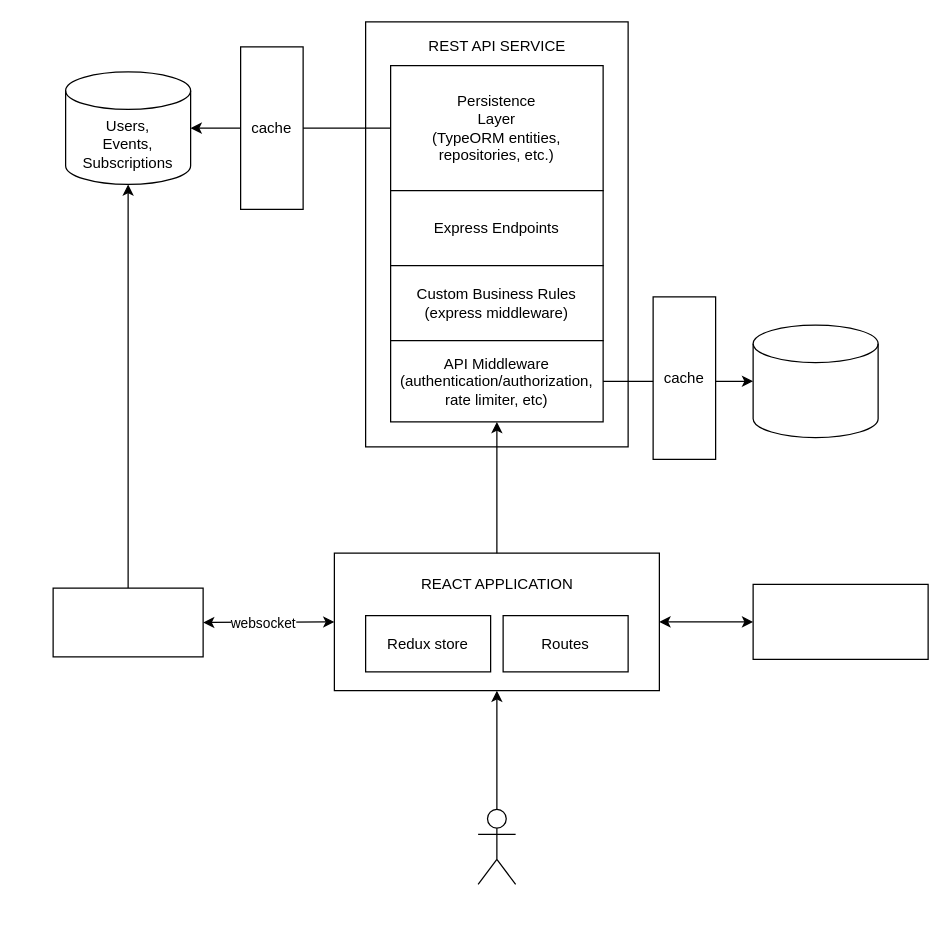
The diagram is 950 pixels wide and 933 high, and some of its shapes have lost their labels. Here are the shapes that lost their labels. From the top down, the centre of each, then its label:
At point 815,381: "User Tokens".
At point 127,622: "NOTIFICATION SERVICE".
At point 840,621: "Google Profile API".
At point 496,846: "YOU".
